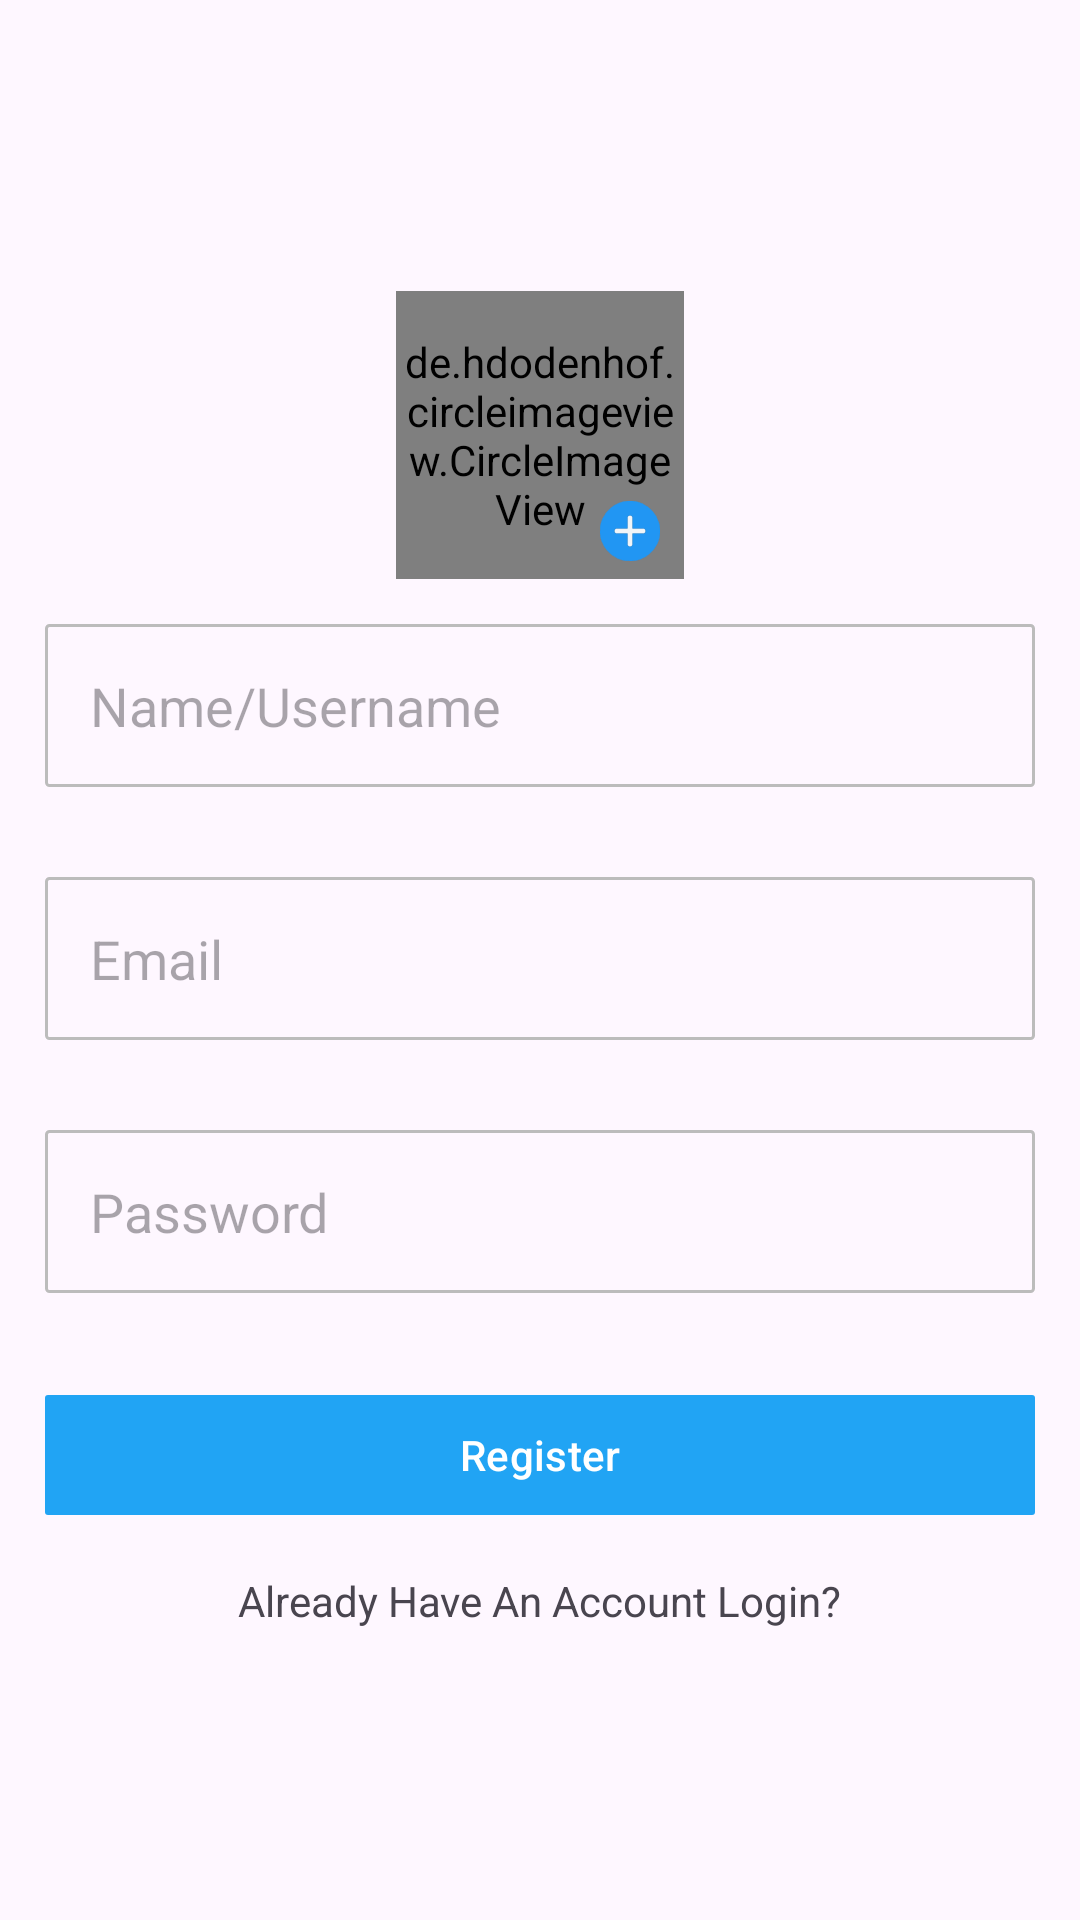

Named icons in this screenshot (1080 × 1920) and their bounding boxes, BBox(x1, y1, x2, y2):
add profile: BBox(600, 501, 660, 561)
